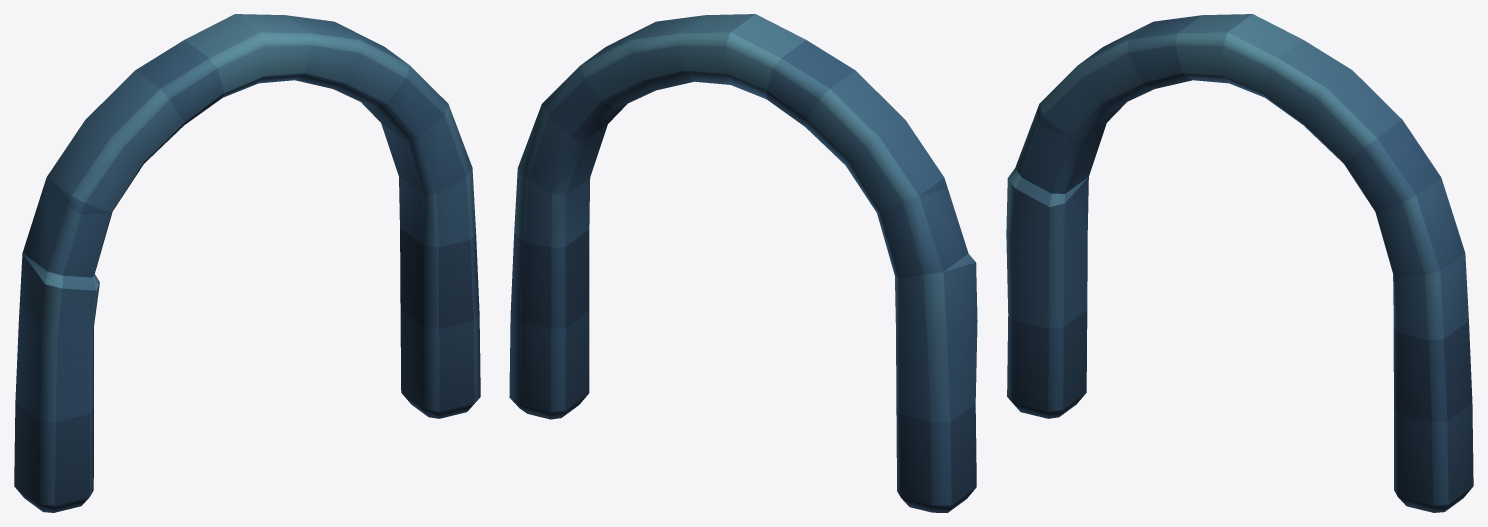
Rendered from archway_small.fbx.
The picture shows the model from 3 angles, left to right: view 1: azimuth 30°, elevation 25°; view 2: azimuth 150°, elevation 25°; view 3: azimuth 330°, elevation 25°; orthographic projection.
Visible parts, largest first — view 1: archway_small; view 2: archway_small; view 3: archway_small.
Boxes of the visible parts, x1,y1,x2,y2 form: archway_small: (14,14,480,512); archway_small: (509,14,977,512); archway_small: (1006,14,1473,512).
Size of the model in its own units: 418 by 389 by 61.02.
